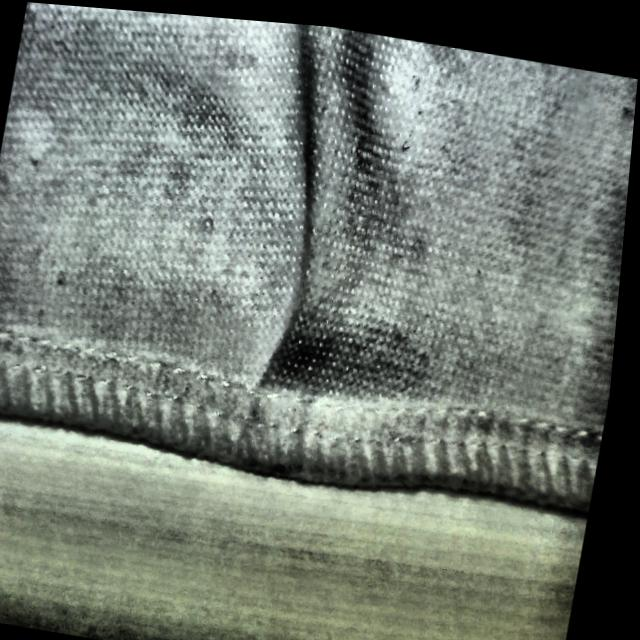seam: (210, 192, 387, 484)
